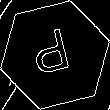P_S: (31, 26, 79, 84)
